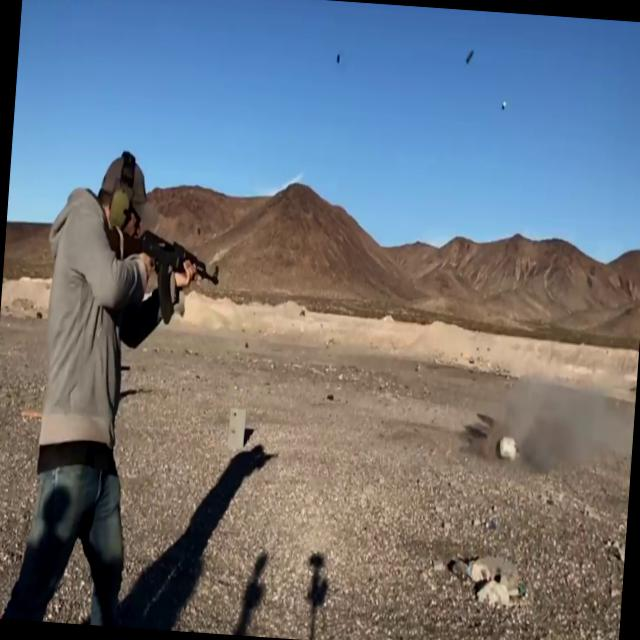long weapon: (100, 196, 240, 337)
